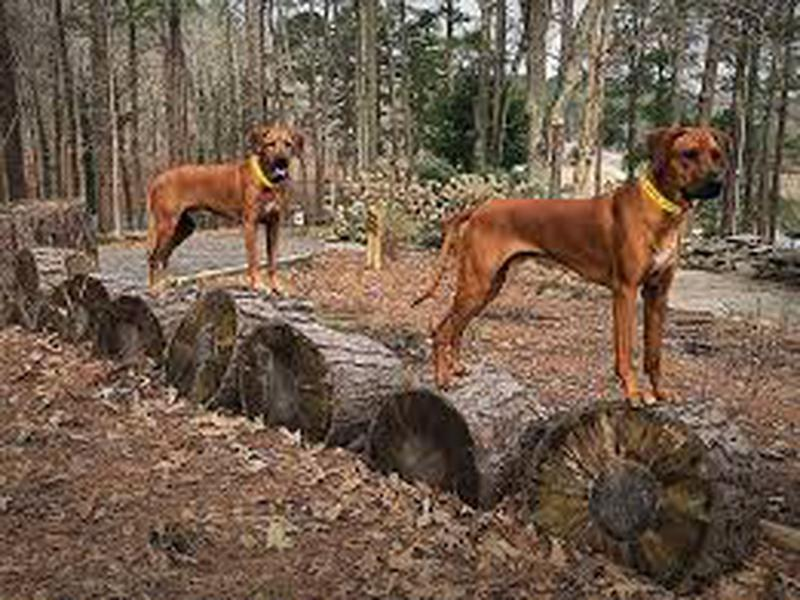dog_stand: (413, 120, 739, 410), (133, 116, 307, 306)
